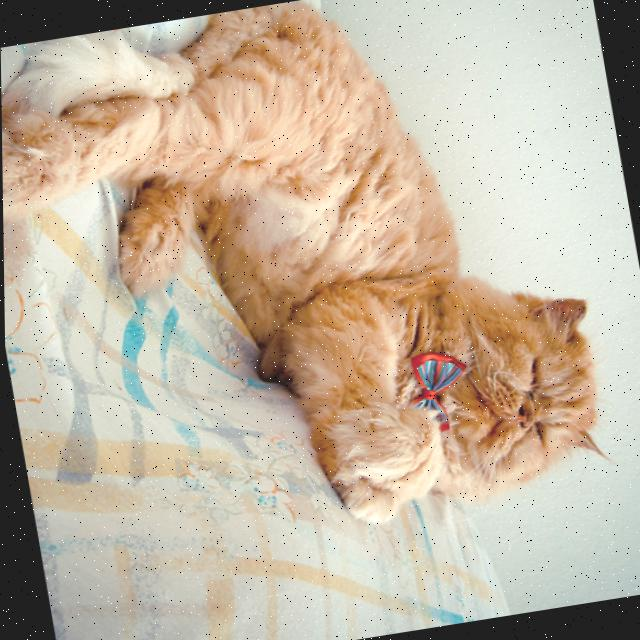Persian: (0, 0, 629, 582)
